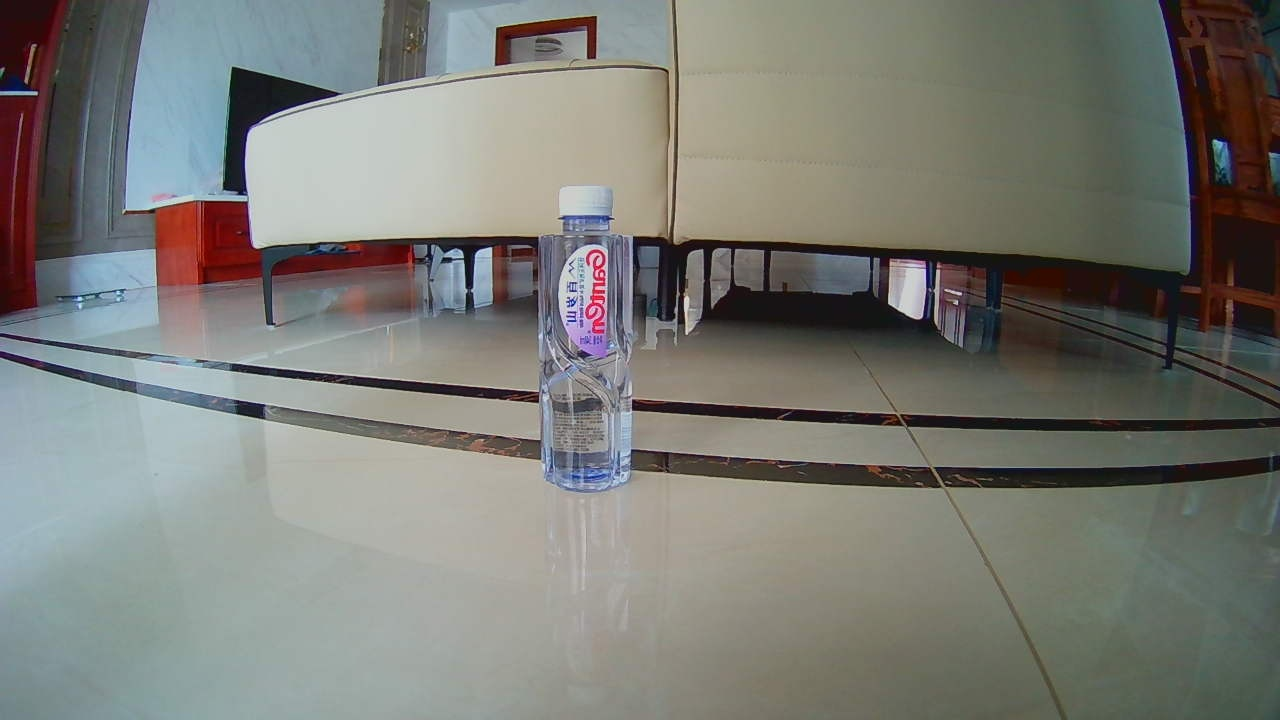water: (533, 183, 631, 490)
